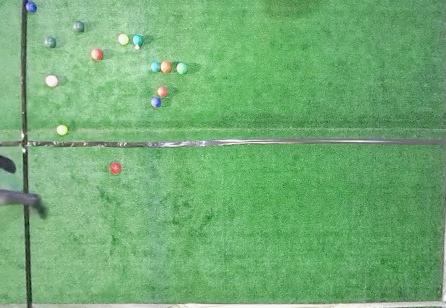blue: (25, 2, 37, 13), (151, 97, 161, 108)
green: (72, 21, 84, 33), (176, 63, 188, 74), (44, 37, 56, 47), (133, 34, 143, 45), (151, 61, 160, 72)
red: (45, 75, 59, 87), (91, 48, 103, 61), (160, 61, 172, 73), (110, 162, 122, 174), (157, 86, 168, 97)
vline: (1, 1, 30, 192), (1, 203, 34, 307), (440, 1, 445, 307)
white: (135, 45, 140, 50)
yellow: (56, 125, 68, 136), (118, 34, 129, 45)
